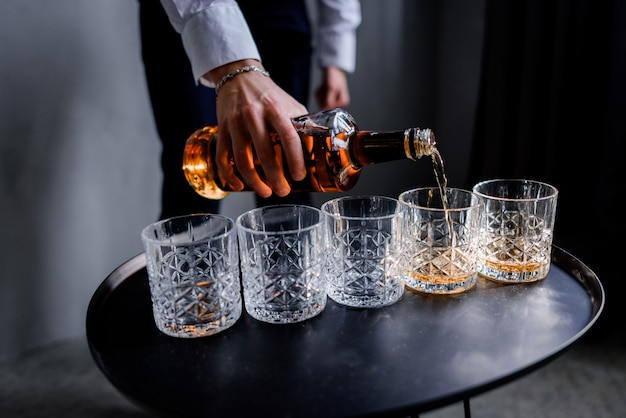alcohol: (180, 109, 442, 199), (471, 175, 559, 284), (397, 185, 482, 296)
